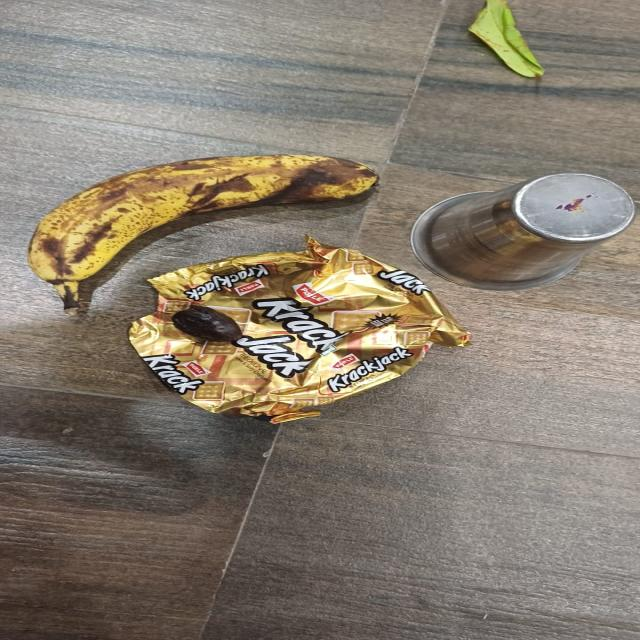Banana-Bio: (20, 153, 382, 312)
Leaf-Bio: (445, 0, 574, 94)
Plastic-NonBio: (123, 244, 467, 426)
Steel-NonBio: (411, 155, 640, 288), (336, 363, 384, 387), (394, 394, 394, 396)
